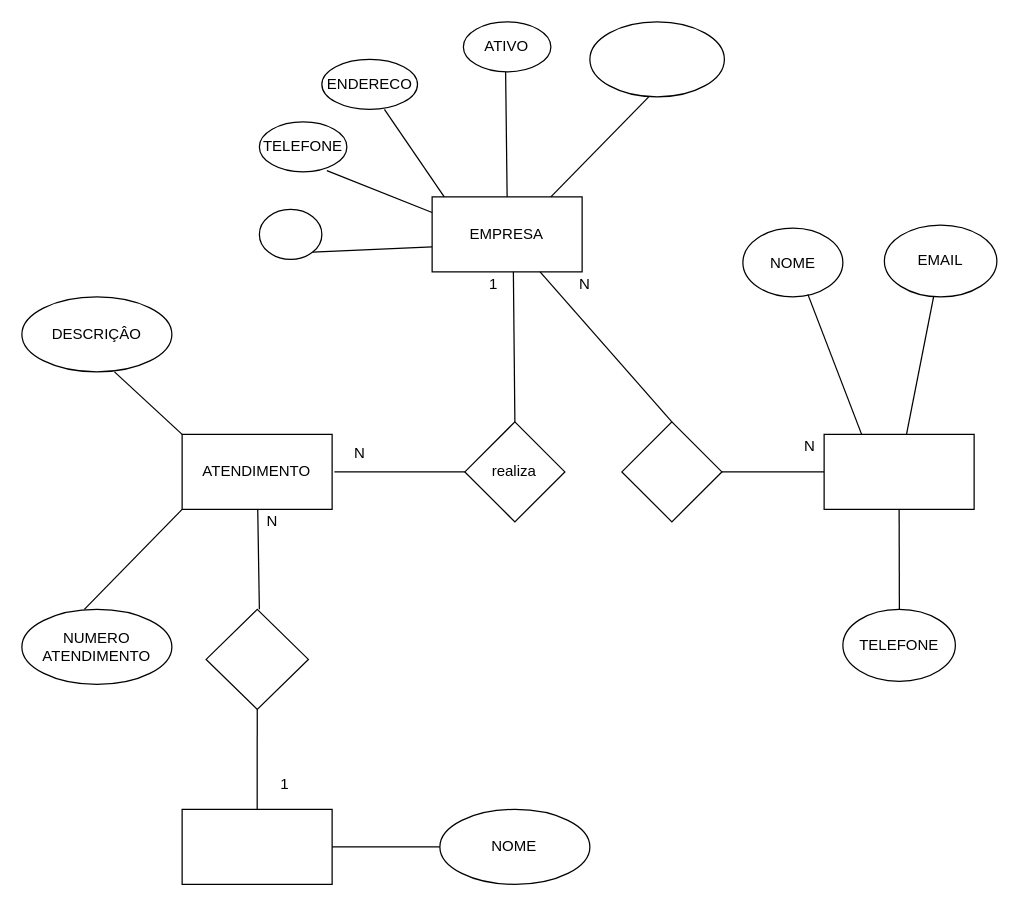
Image size: 1019x906. Some labels were removed from this diagram. The box of each missing label's shape, as (x1, y1, x2, y2) in pixels:
ANALISTA: (181, 808, 332, 884)
CNPJ: (258, 208, 322, 259)
CONTATO: (823, 433, 974, 509)
contem: (205, 608, 308, 709)
possui: (621, 421, 722, 522)
RAZAO SOCIAL: (589, 21, 724, 97)
